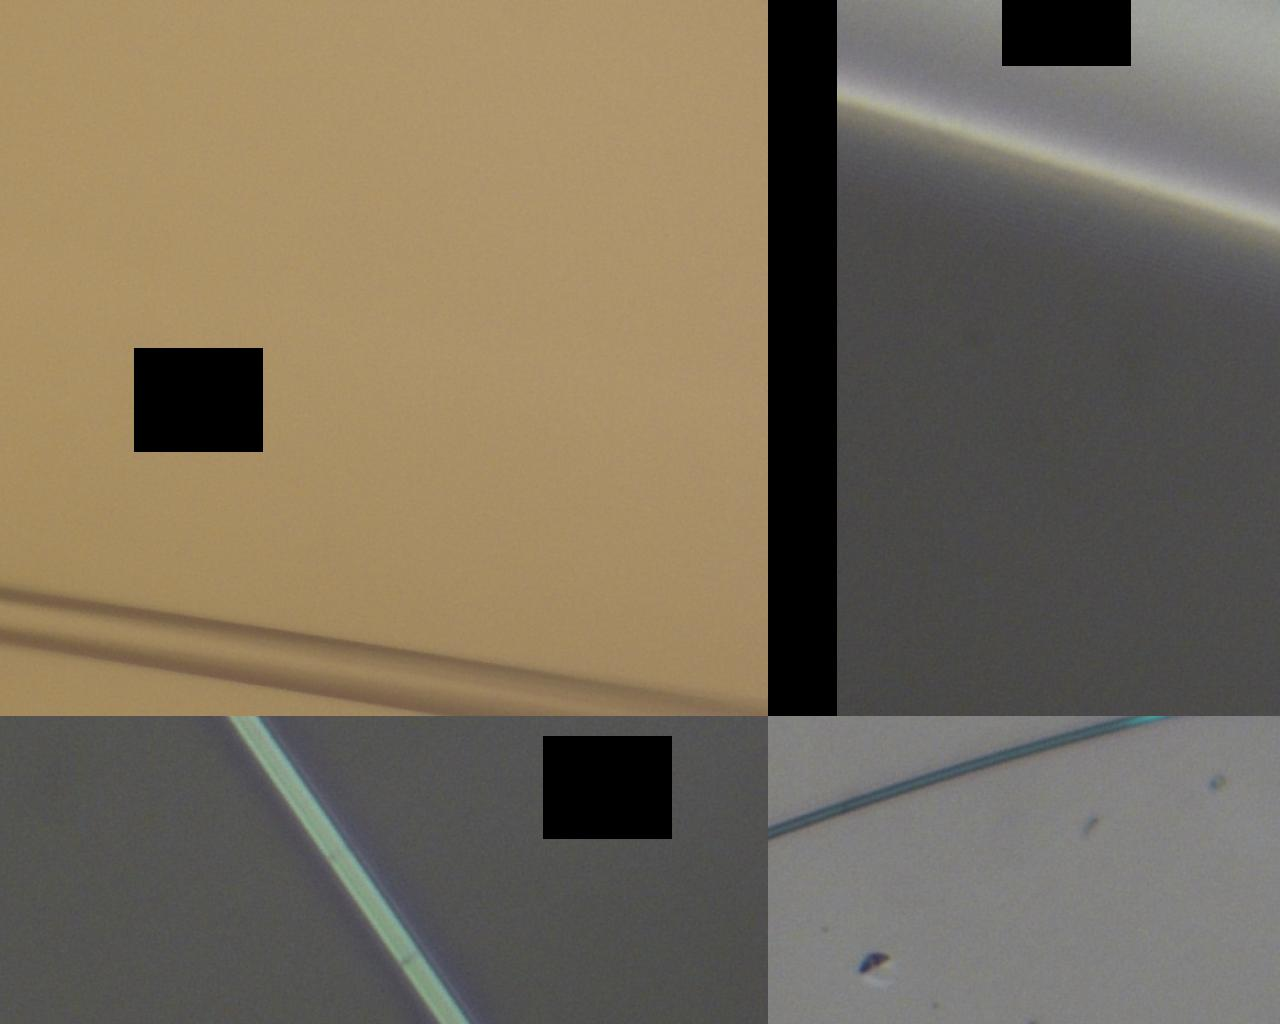fiber: (127, 107, 1151, 219)
